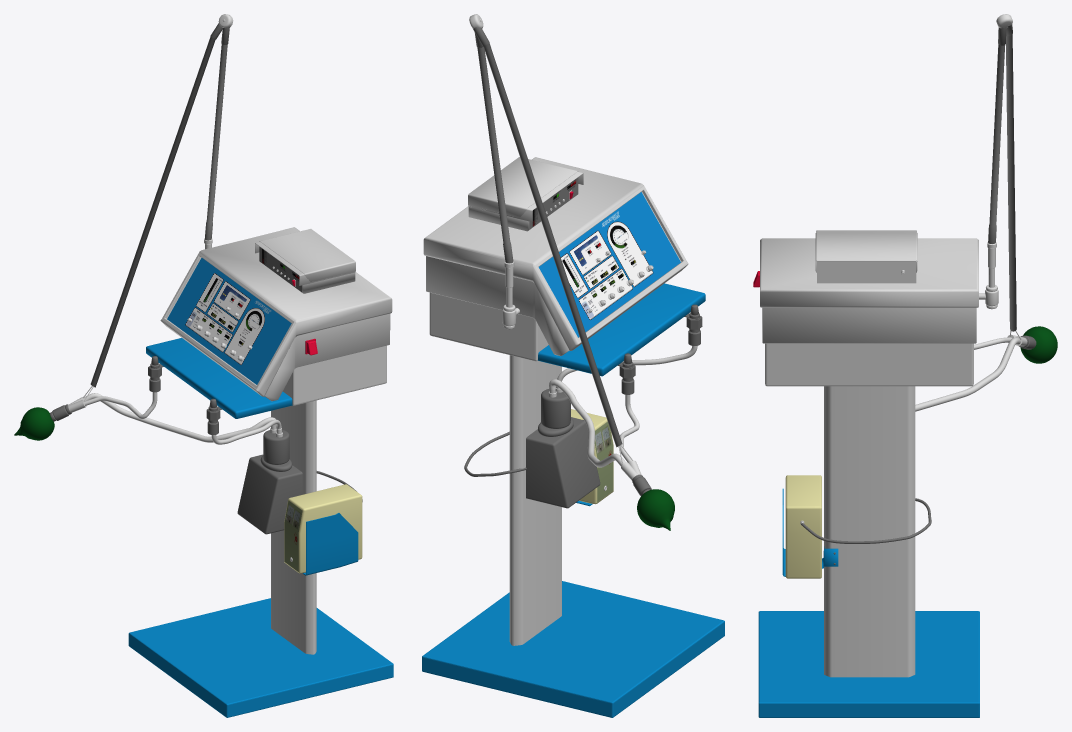
File: Machine.fbx
3 views of the same model, side by side, from view 1: azimuth 30°, elevation 25°; view 2: azimuth 150°, elevation 25°; view 3: azimuth 270°, elevation 25° (orthographic). The views are drawn at different scales.
Parts seen in each view (by area): view 1: Machine, Display_1, Display_3, Display_2; view 2: Machine, Display_1, Display_3, Display_2; view 3: Machine.
Boxes of the visible parts, <box> form: Machine: <box>14,14,393,717</box>; Display_1: <box>167,257,291,384</box>; Display_3: <box>284,500,302,571</box>; Display_2: <box>259,247,301,292</box>; Machine: <box>422,14,724,717</box>; Display_1: <box>538,192,680,337</box>; Display_3: <box>594,421,613,502</box>; Display_2: <box>529,177,578,229</box>; Machine: <box>753,14,1057,717</box>.
Size of the model in its own units: 0.7021 by 1.59 by 0.6526.
9 materials, 3 textured.
